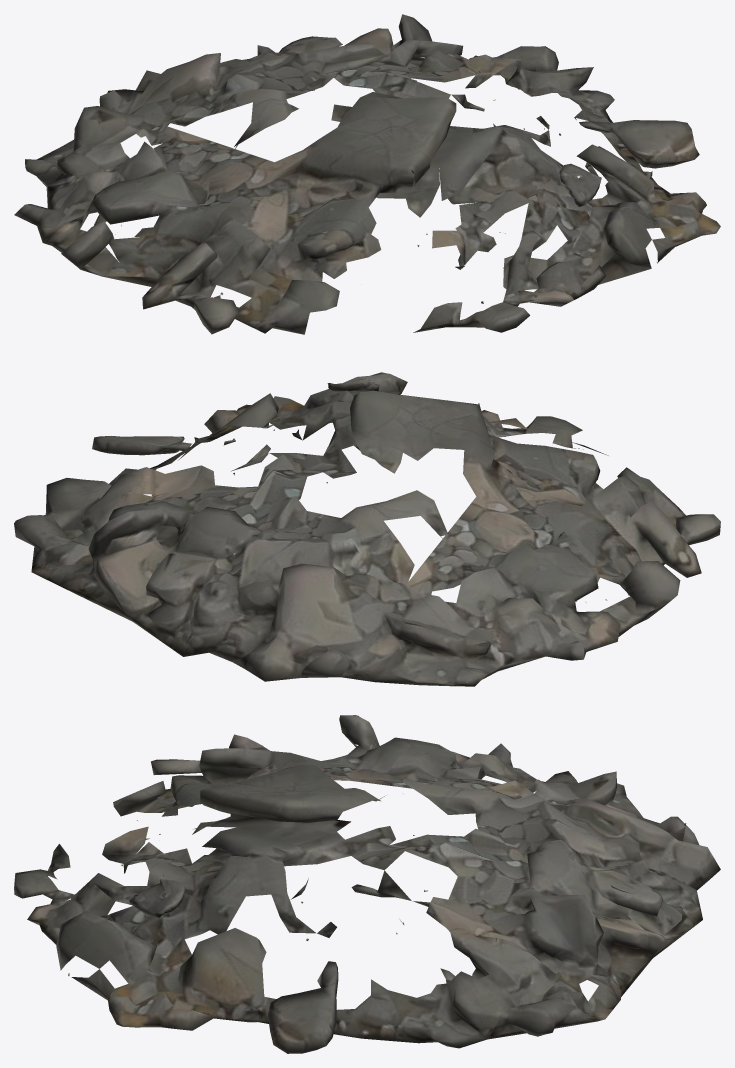
The model's file is rubble.glb.
3 views of the same model, one above another, from view 1: azimuth 30°, elevation 25°; view 2: azimuth 150°, elevation 25°; view 3: azimuth 270°, elevation 25° (orthographic). The views are drawn at different scales.
Parts seen in each view (by area): view 1: tripo_node_bb6f6849; view 2: tripo_node_bb6f6849; view 3: tripo_node_bb6f6849.
Part boxes in pixels (x1=…): tripo_node_bb6f6849: x1=14, y1=14, x2=720, y2=334; tripo_node_bb6f6849: x1=14, y1=372, x2=720, y2=686; tripo_node_bb6f6849: x1=14, y1=715, x2=720, y2=1053.
Bounding box in the file's own units: 96.51 × 18.25 × 92.53.
1 material, 1 textured.
